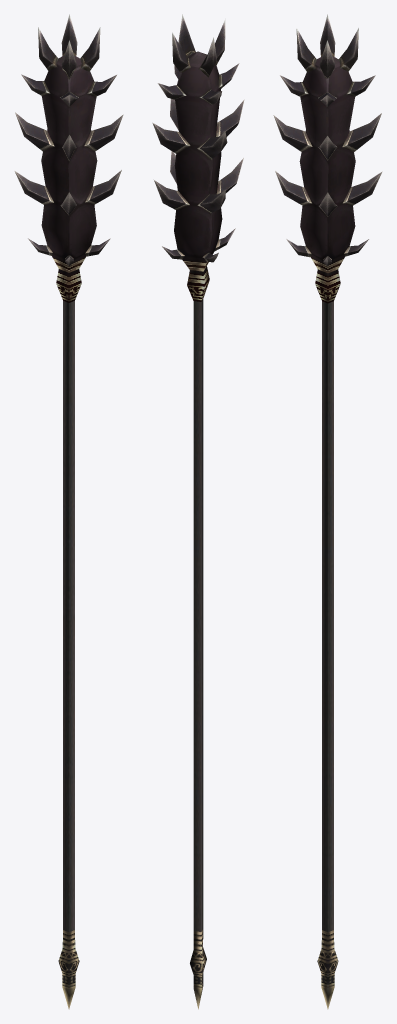
The model's file is polearm_2_19fe462d.glb.
3 views of the same model, side by side, from view 1: azimuth 90°, elevation 25°; view 2: azimuth 210°, elevation 25°; view 3: azimuth 270°, elevation 25° (orthographic).
Size of the model in its own units: 0.4463 by 4.55 by 0.4588.
1 material, 1 textured.
